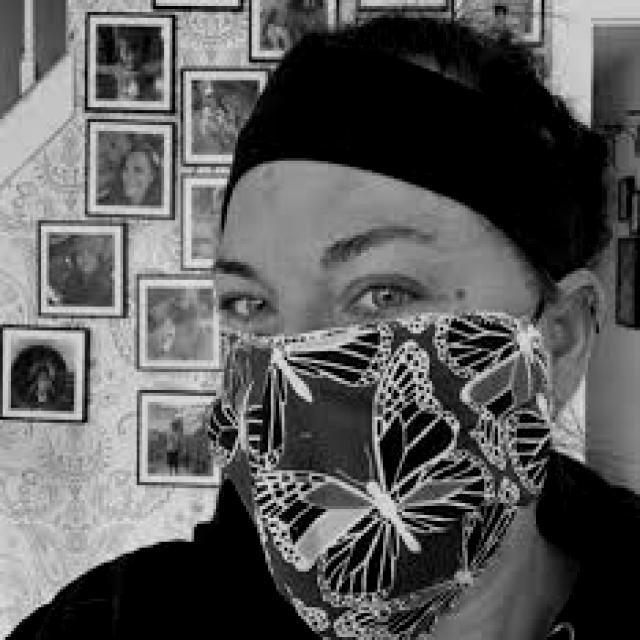fake: (199, 309, 563, 640)
real: (212, 161, 544, 635)
